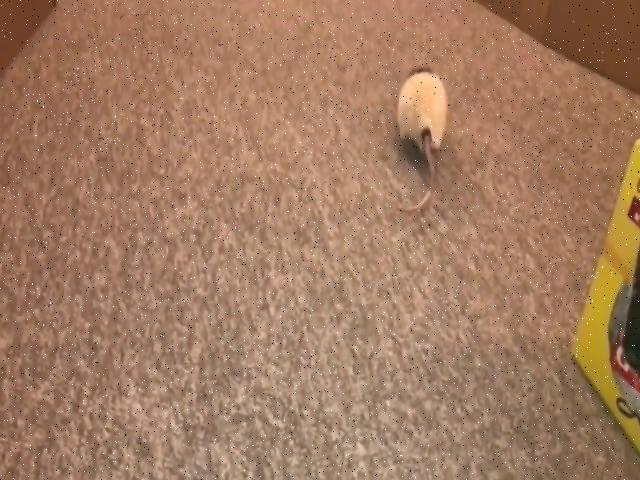Tikus: (392, 56, 457, 224)
